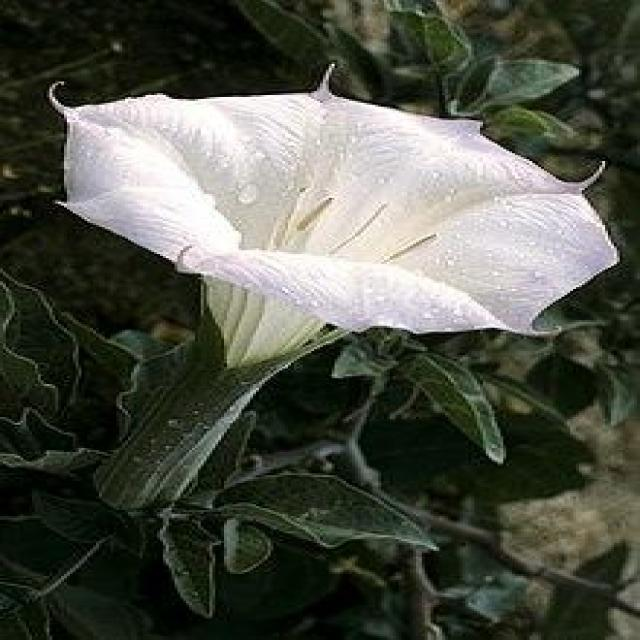organic waste: (38, 73, 617, 344)
